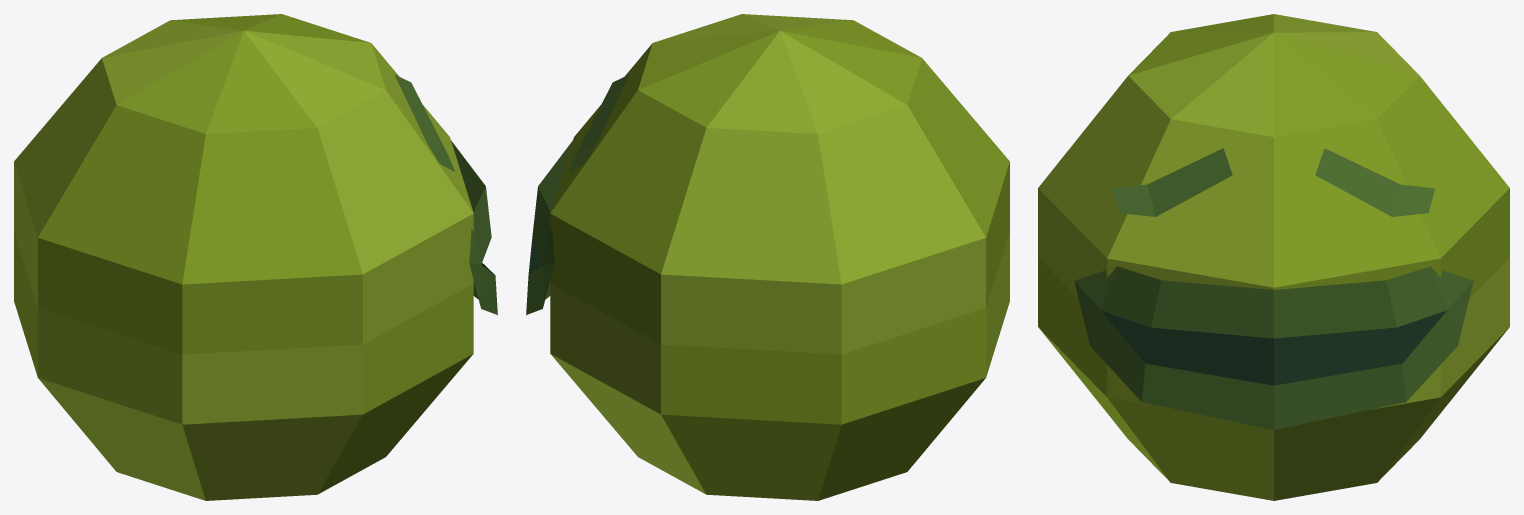
The model's file is badBall.fbx.
3 renders of one model, left to right at view 1: azimuth 30°, elevation 25°; view 2: azimuth 150°, elevation 25°; view 3: azimuth 270°, elevation 25°, orthographic.
Parts seen in each view (by area): view 1: Mesh_Badball; view 2: Mesh_Badball; view 3: Mesh_Badball.
Part boxes in pixels (box(x1,y1,x2,y2)): Mesh_Badball: box(14, 14, 497, 500); Mesh_Badball: box(526, 14, 1009, 500); Mesh_Badball: box(1038, 14, 1509, 500).
Size of the model in its own units: 1.24 by 1.23 by 1.29.
